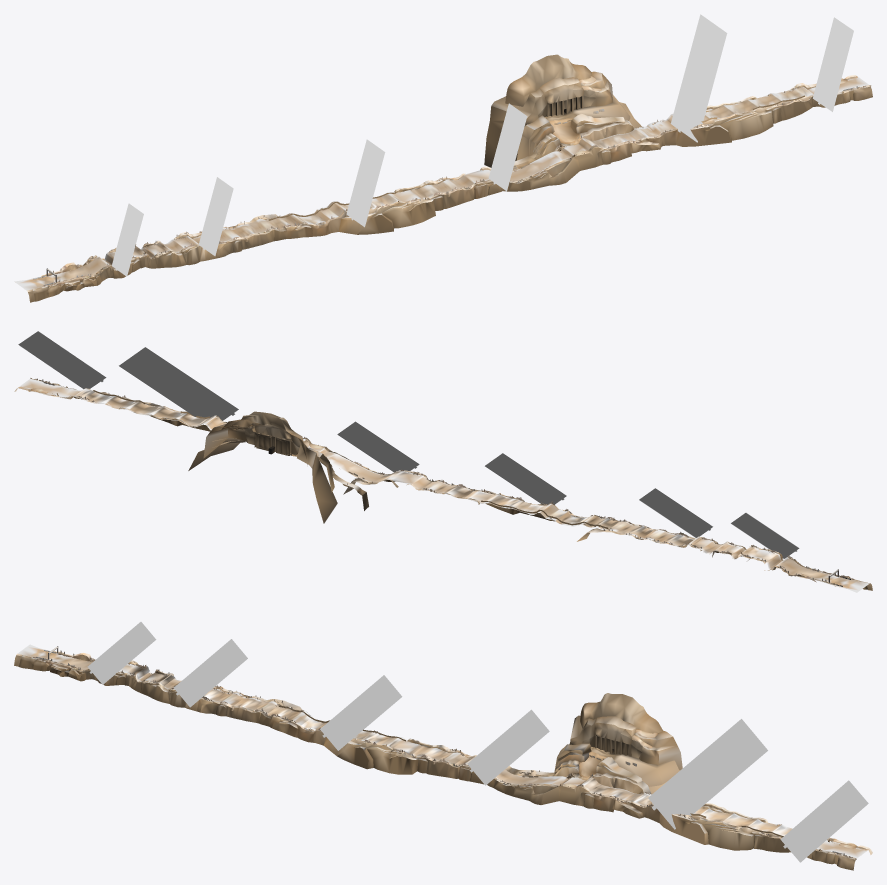
The model's file is Desert_02.fbx.
The picture shows the model from 3 angles, top to bottom: view 1: azimuth 30°, elevation 25°; view 2: azimuth 150°, elevation 25°; view 3: azimuth 330°, elevation 25°; orthographic projection.
Parts seen in each view (by area): view 1: Mountain_01, Light_01, Road_01, Tree_01, Ground_02; view 2: Light_01, Road_01, Mountain_01, Tree_01, Pattern_01; view 3: Mountain_01, Light_01, Road_01, Tree_01, Ground_02, Pattern_01.
Boxes of the visible parts, x1,y1,x2,y2 form: Mountain_01: (27, 54, 872, 302); Light_01: (111, 14, 853, 276); Road_01: (14, 76, 868, 290); Tree_01: (42, 85, 871, 286); Ground_02: (136, 76, 847, 259); Light_01: (18, 331, 799, 558); Road_01: (18, 378, 869, 592); Mountain_01: (14, 378, 872, 590); Tree_01: (30, 378, 854, 581); Pattern_01: (52, 386, 753, 558); Mountain_01: (14, 651, 872, 870); Light_01: (87, 622, 868, 862); Road_01: (18, 644, 868, 858); Tree_01: (33, 650, 856, 859); Ground_02: (123, 673, 856, 848); Pattern_01: (133, 665, 834, 850).
Bounding box in the file's own units: 66090 × 8708 × 8011.
